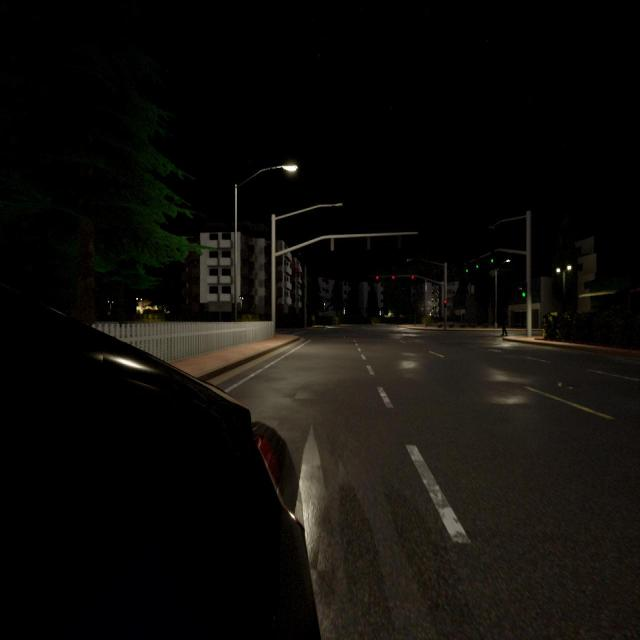Pedestrian: (499, 308, 508, 337)
Vehicle: (0, 288, 319, 640)
traffic_light: (522, 286, 528, 296), (476, 258, 479, 269), (491, 253, 494, 263), (411, 275, 414, 283), (444, 300, 447, 308), (466, 263, 468, 273), (392, 275, 394, 284), (376, 276, 378, 284)
